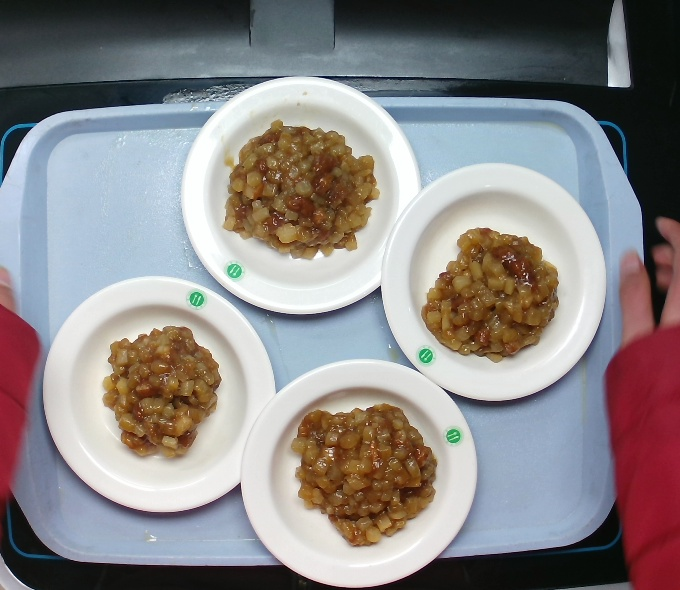wcq-RouYuan: (219, 107, 391, 264), (288, 381, 437, 551), (92, 314, 234, 457), (423, 225, 557, 346)
